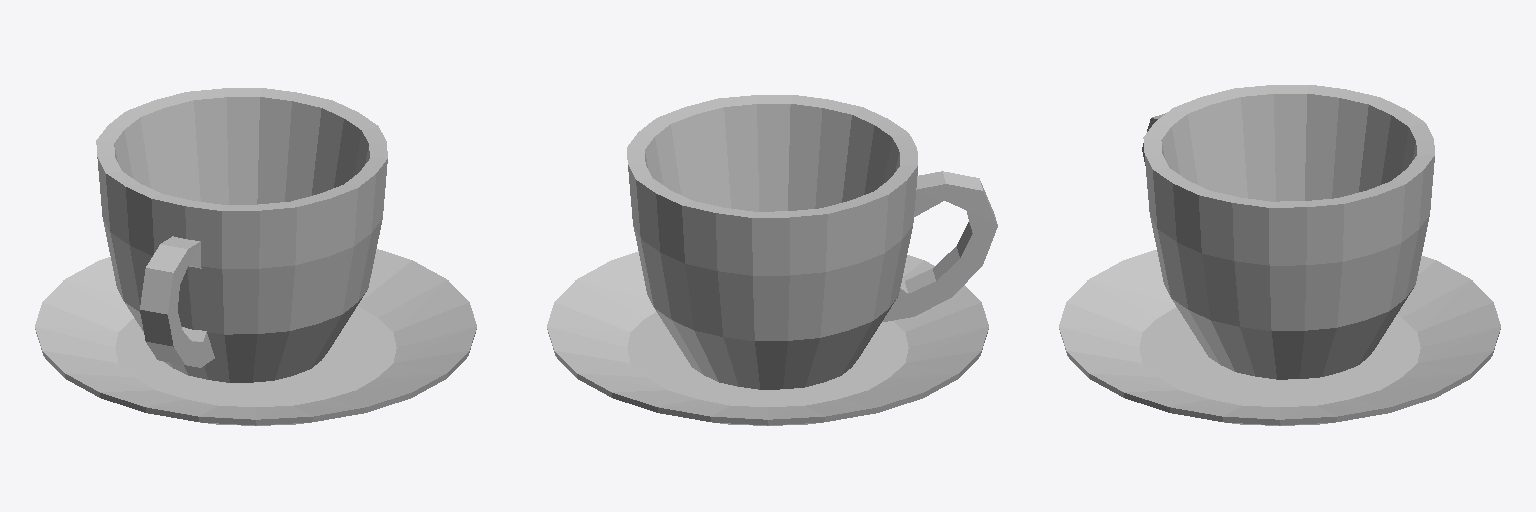
The model's file is Cup02.obj.
3 renders of one model, left to right at view 1: azimuth 30°, elevation 25°; view 2: azimuth 150°, elevation 25°; view 3: azimuth 270°, elevation 25°, orthographic.
Visible parts, largest first — view 1: Cup02_LOD0_Cup.002; view 2: Cup02_LOD0_Cup.002; view 3: Cup02_LOD0_Cup.002.
Boxes of the visible parts, x1,y1,x2,y2 form: Cup02_LOD0_Cup.002: [35, 88, 476, 425]; Cup02_LOD0_Cup.002: [547, 95, 997, 425]; Cup02_LOD0_Cup.002: [1059, 85, 1500, 425].
Bounding box in the file's own units: 0.1636 × 0.0859 × 0.1636.